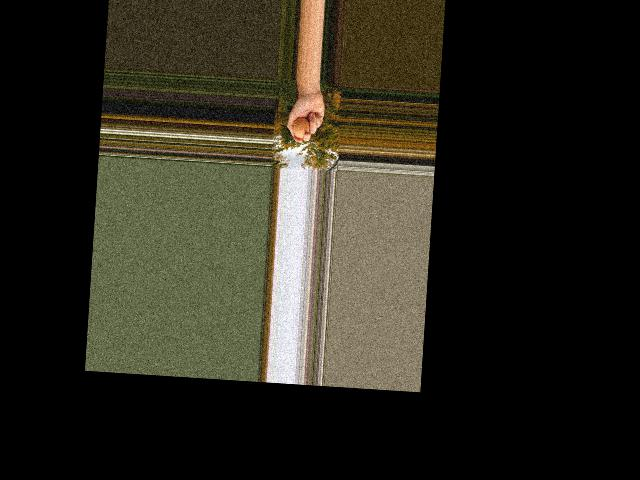egg: (292, 117, 310, 138)
